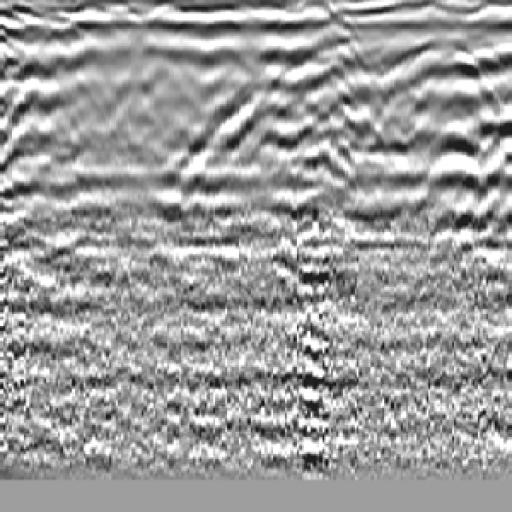non-metallic: (371, 34, 512, 253)
